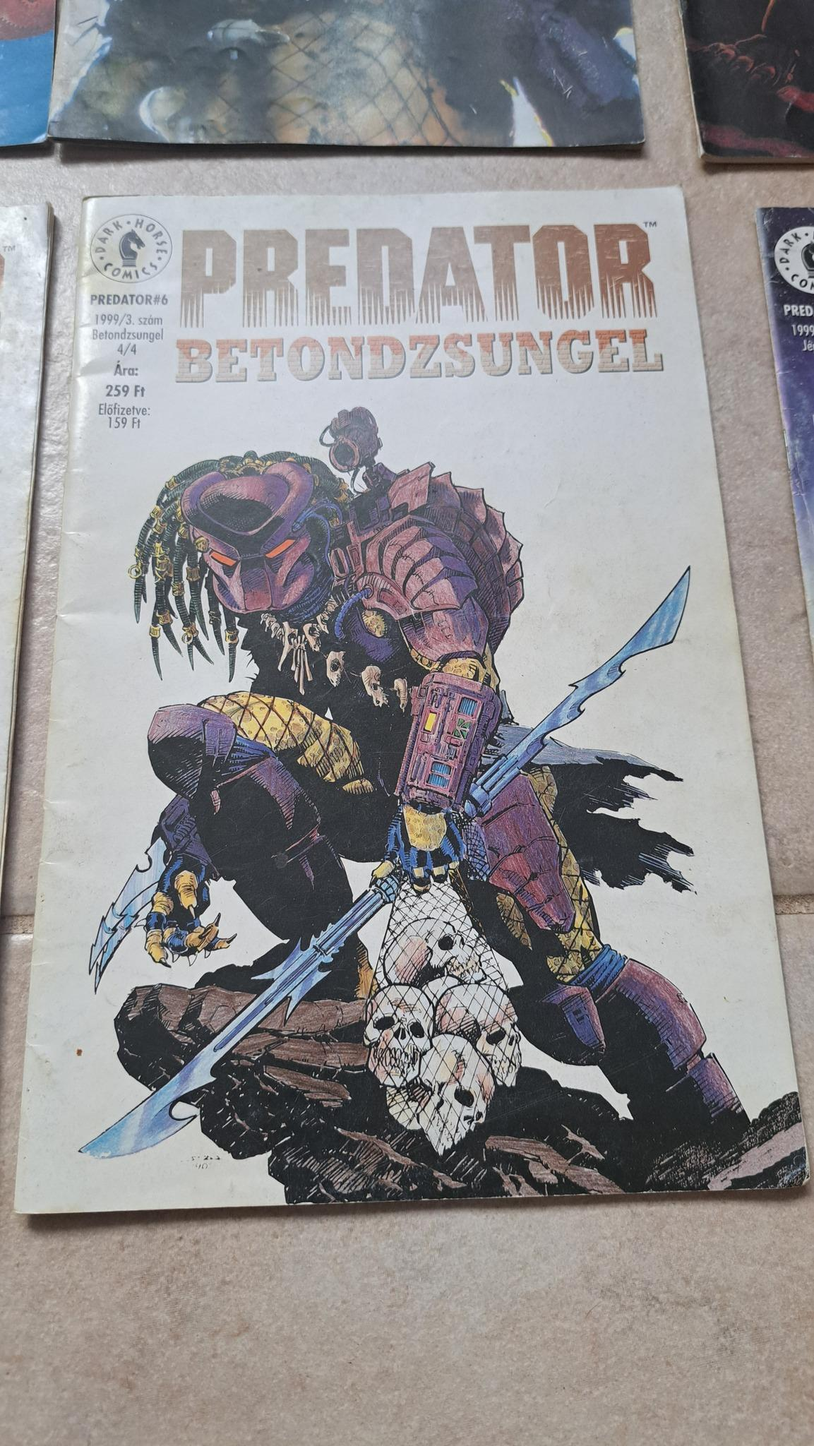comic: (4, 188, 805, 1211)
